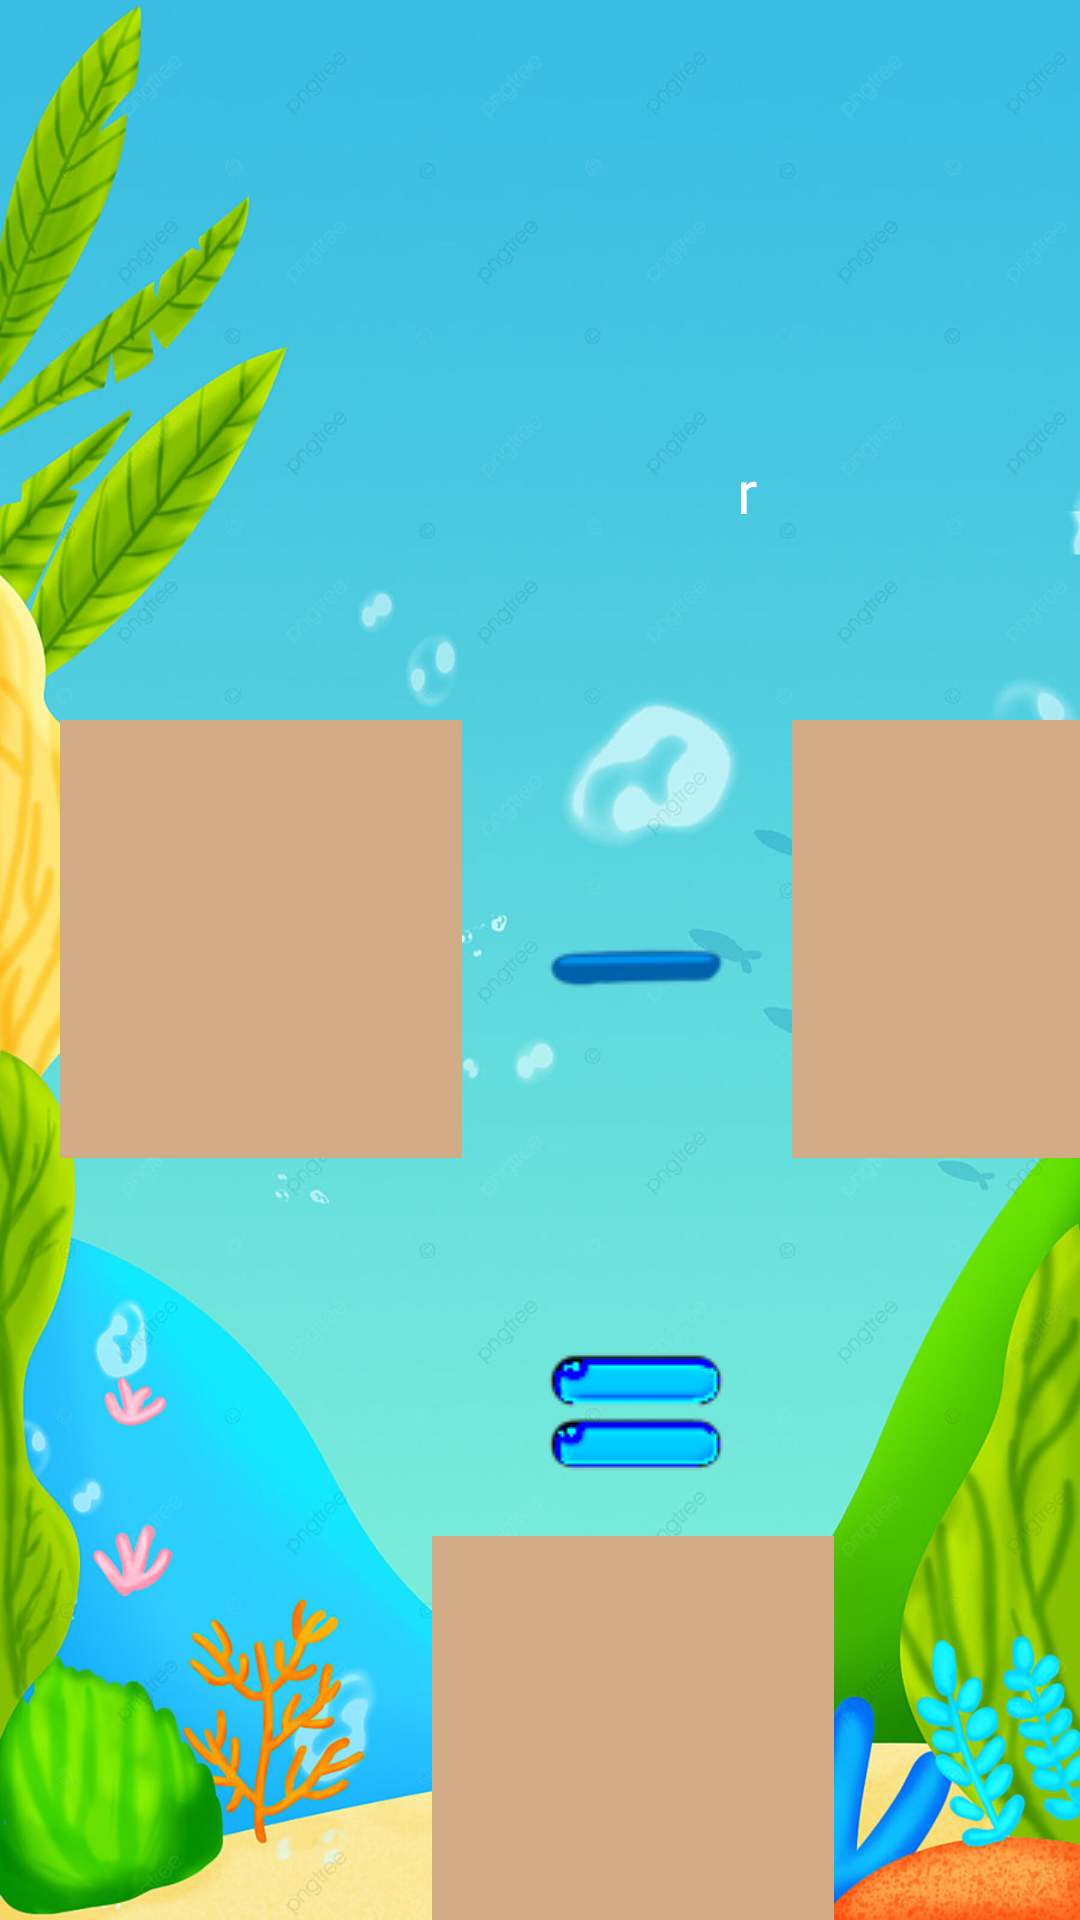

Icons on this 1080x1920 Android screen, each with the point to tap as point (x, y):
signoigual: point (625, 1389)
